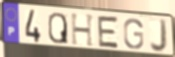4: (24, 8, 43, 45)
E: (96, 14, 120, 50)
G: (122, 18, 145, 50)
H: (69, 13, 96, 49)
J: (149, 18, 169, 54)
Q: (47, 11, 69, 45)
